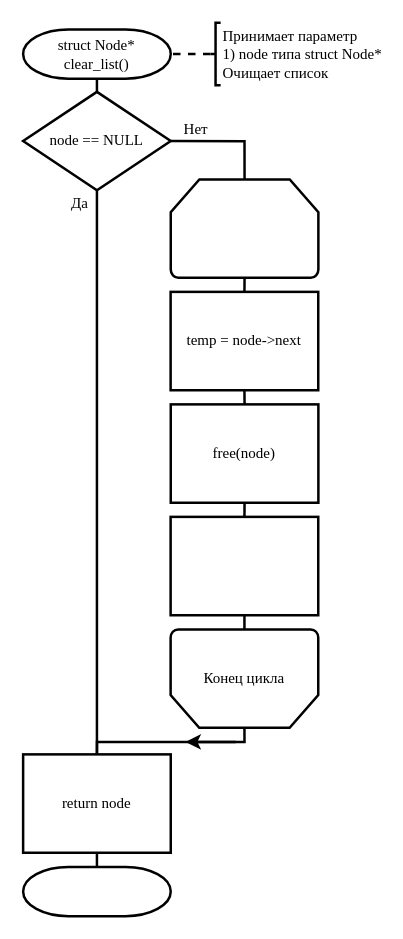
Image size: 403x939. Some labels were removed from this diagram. The box of each missing label's shape, as (x1, y1, x2, y2) in pixels:
node = temp: (169, 515, 319, 616)
struct Node* temp = node temp != NULL: (169, 178, 319, 278)
Конец: (21, 865, 171, 917)
